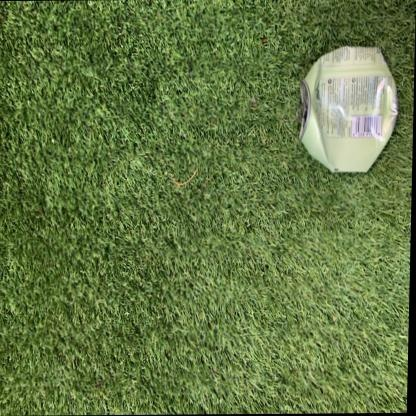trash: (300, 46, 397, 171)
